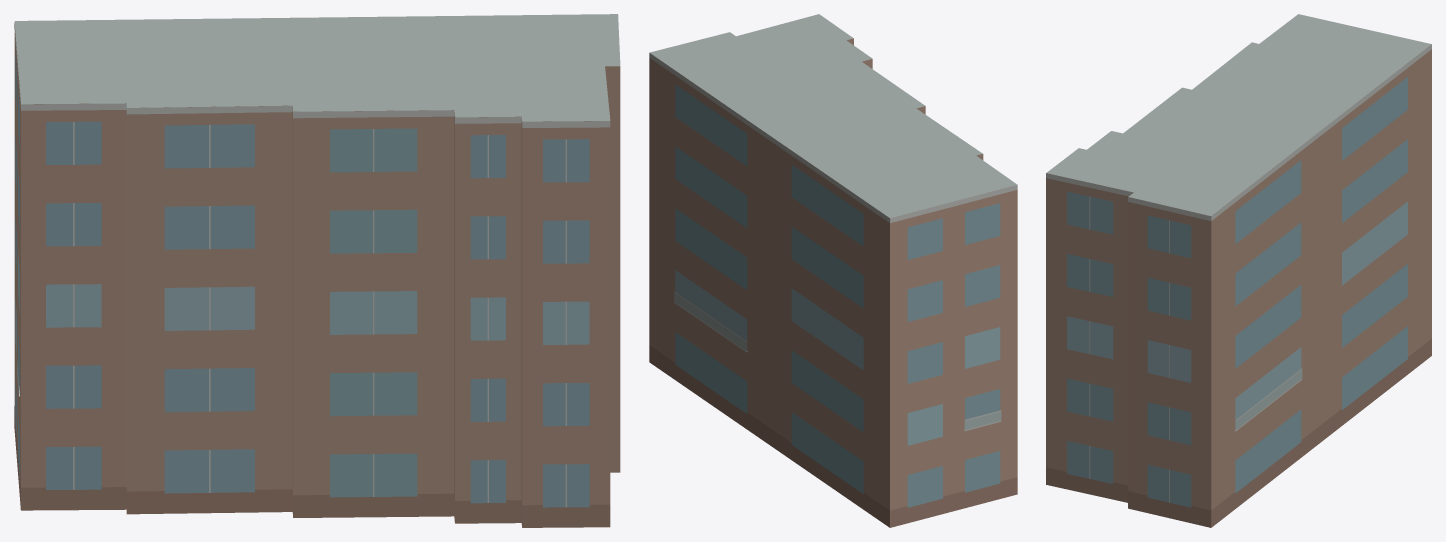
File: survey-upis-32868592.glb
3 views of the same model, side by side, from view 1: azimuth 30°, elevation 25°; view 2: azimuth 150°, elevation 25°; view 3: azimuth 270°, elevation 25° (orthographic). The views are drawn at different scales.
Visible parts, largest first — view 1: survey-upis-32868592.tmp; view 2: survey-upis-32868592.tmp; view 3: survey-upis-32868592.tmp.
Boxes of the visible parts, x1=… form: survey-upis-32868592.tmp: x1=14, y1=14, x2=620, y2=527; survey-upis-32868592.tmp: x1=649, y1=14, x2=1017, y2=527; survey-upis-32868592.tmp: x1=1046, y1=14, x2=1431, y2=527.
Bounding box in the file's own units: 21.23 × 15.25 × 17.12.
